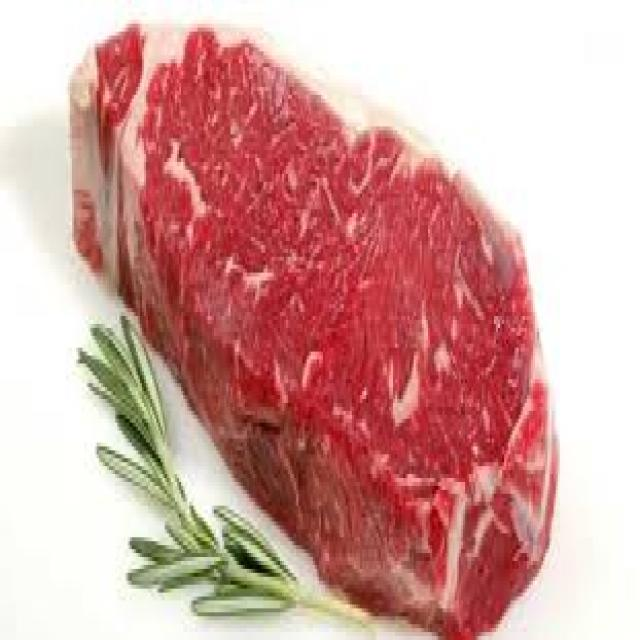beef: (55, 20, 590, 640)
